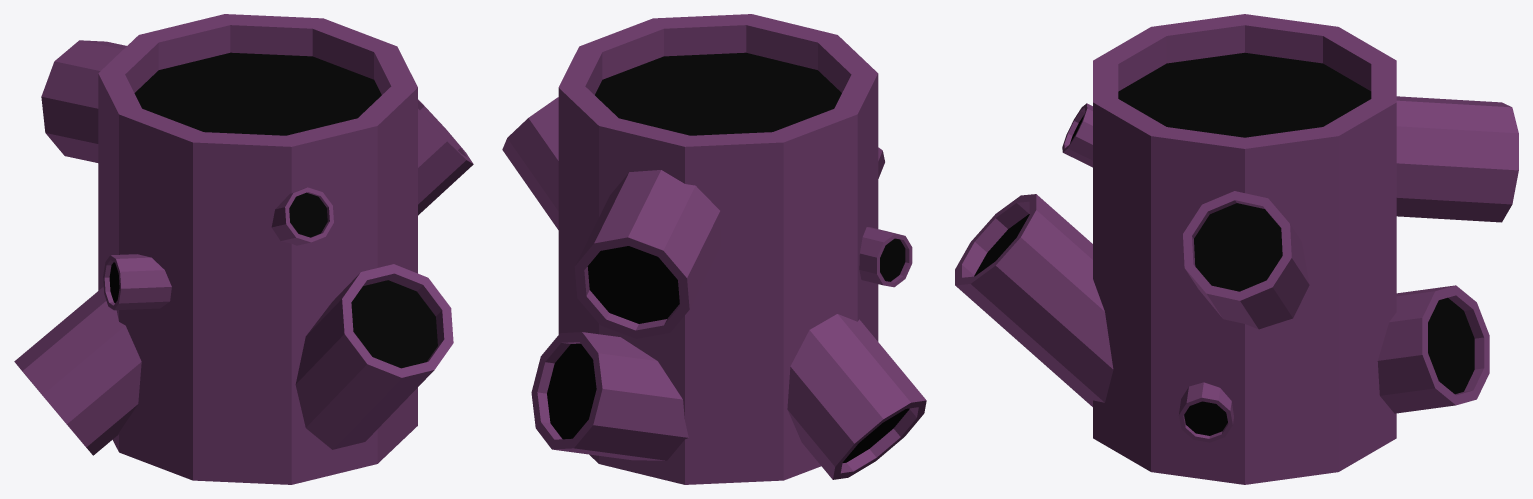
The model's file is Coral.dae.
The picture shows the model from 3 angles, left to right: view 1: azimuth 30°, elevation 25°; view 2: azimuth 150°, elevation 25°; view 3: azimuth 270°, elevation 25°; orthographic projection.
Parts seen in each view (by area): view 1: pCylinder10; view 2: pCylinder10; view 3: pCylinder10.
Part boxes in pixels (left/top/right/bottom): pCylinder10: left=14, top=14, right=473, bottom=484; pCylinder10: left=502, top=14, right=926, bottom=484; pCylinder10: left=955, top=14, right=1518, bottom=484.
Bounding box in the file's own units: 2.87 × 2.25 × 3.36.
